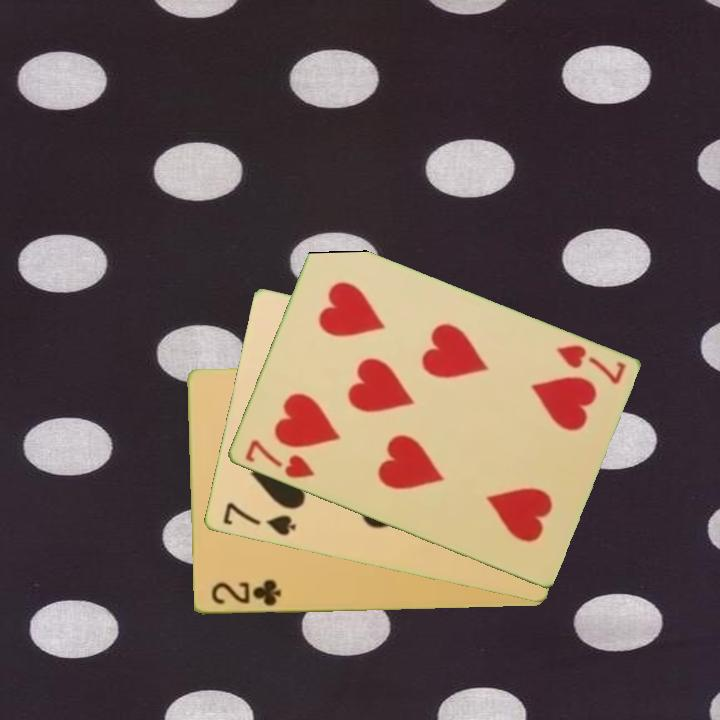2c: (207, 576, 284, 609)
7h: (552, 341, 629, 388), (240, 436, 317, 482)
7s: (219, 499, 299, 539)
